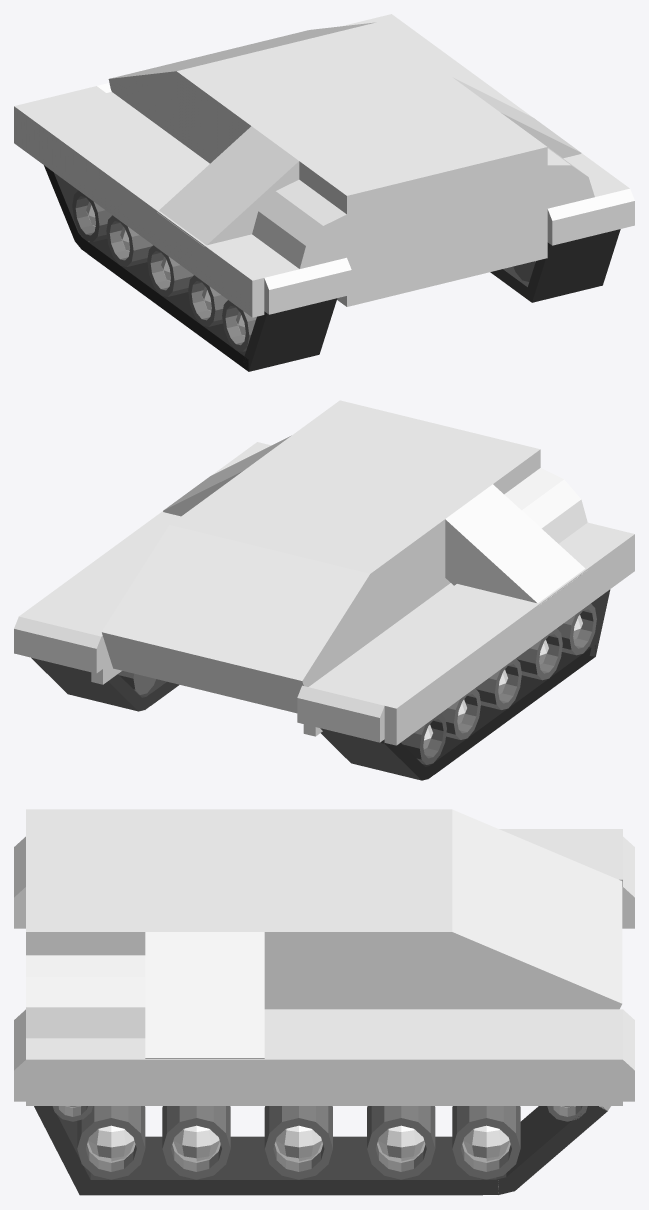
Rendered from hunter.gltf.
3 views of the same model, one above another, from view 1: azimuth 30°, elevation 25°; view 2: azimuth 150°, elevation 25°; view 3: azimuth 270°, elevation 25° (orthographic). The views are drawn at different scales.
Visible parts, largest first — view 1: cube (×19), cylinder (×2), wheel (×5); view 2: cube (×18), wheel (×5), cylinder; view 3: cube (×17), wheel (×5), cylinder.
Part boxes in pixels (x1,y1,x2,y2): cube (×19): (14,14,634,371); cylinder (×2): (252,147,594,268); wheel (×5): (72,190,256,351); cube (×18): (14,400,634,780); wheel (×5): (401,603,596,764); cylinder: (504,468,587,543); cube (×17): (14,809,634,1195); wheel (×5): (77,1106,520,1179); cylinder: (26,955,145,1038).
Bounding box in the file's own units: 2 × 0.8762 × 2.28.
1 material, 1 textured.
